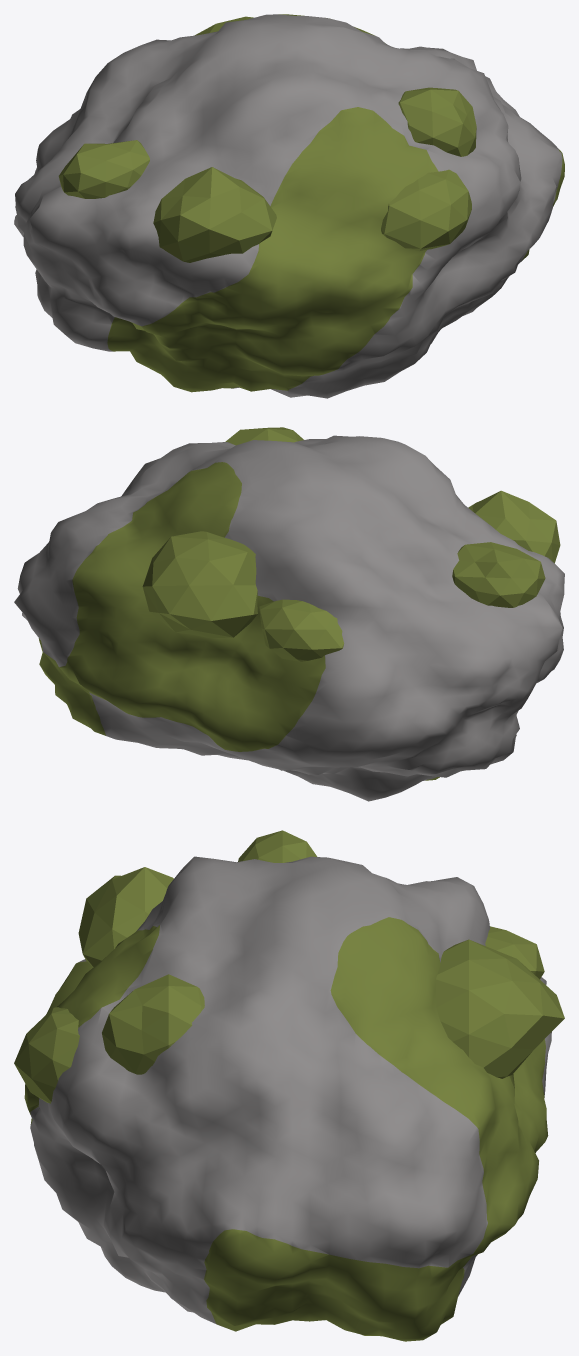
File: pitchblende_surface.glb
The picture shows the model from 3 angles, top to bottom: view 1: azimuth 30°, elevation 25°; view 2: azimuth 150°, elevation 25°; view 3: azimuth 270°, elevation 25°; orthographic projection. The views are drawn at different scales.
Visible parts, largest first — view 1: pitchblende_surface; view 2: pitchblende_surface; view 3: pitchblende_surface.
Part boxes in pixels (bbox=[...]): pitchblende_surface: bbox=[14, 14, 564, 398]; pitchblende_surface: bbox=[14, 427, 564, 801]; pitchblende_surface: bbox=[14, 830, 564, 1341].
Bounding box in the file's own units: 1.24 × 0.7574 × 0.9269.
